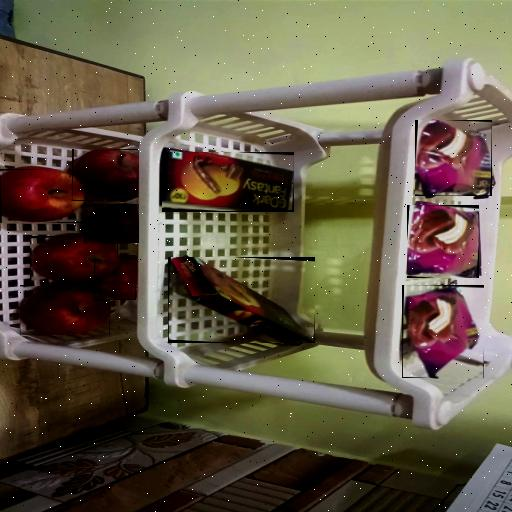Apple: (0, 169, 85, 223), (20, 285, 110, 335), (30, 236, 118, 286), (72, 149, 139, 201), (84, 204, 139, 243), (94, 258, 136, 300)
Choco Fills: (168, 257, 315, 343), (162, 152, 294, 212)
Choco Pie: (402, 285, 484, 378), (415, 120, 492, 196), (407, 205, 479, 278)
